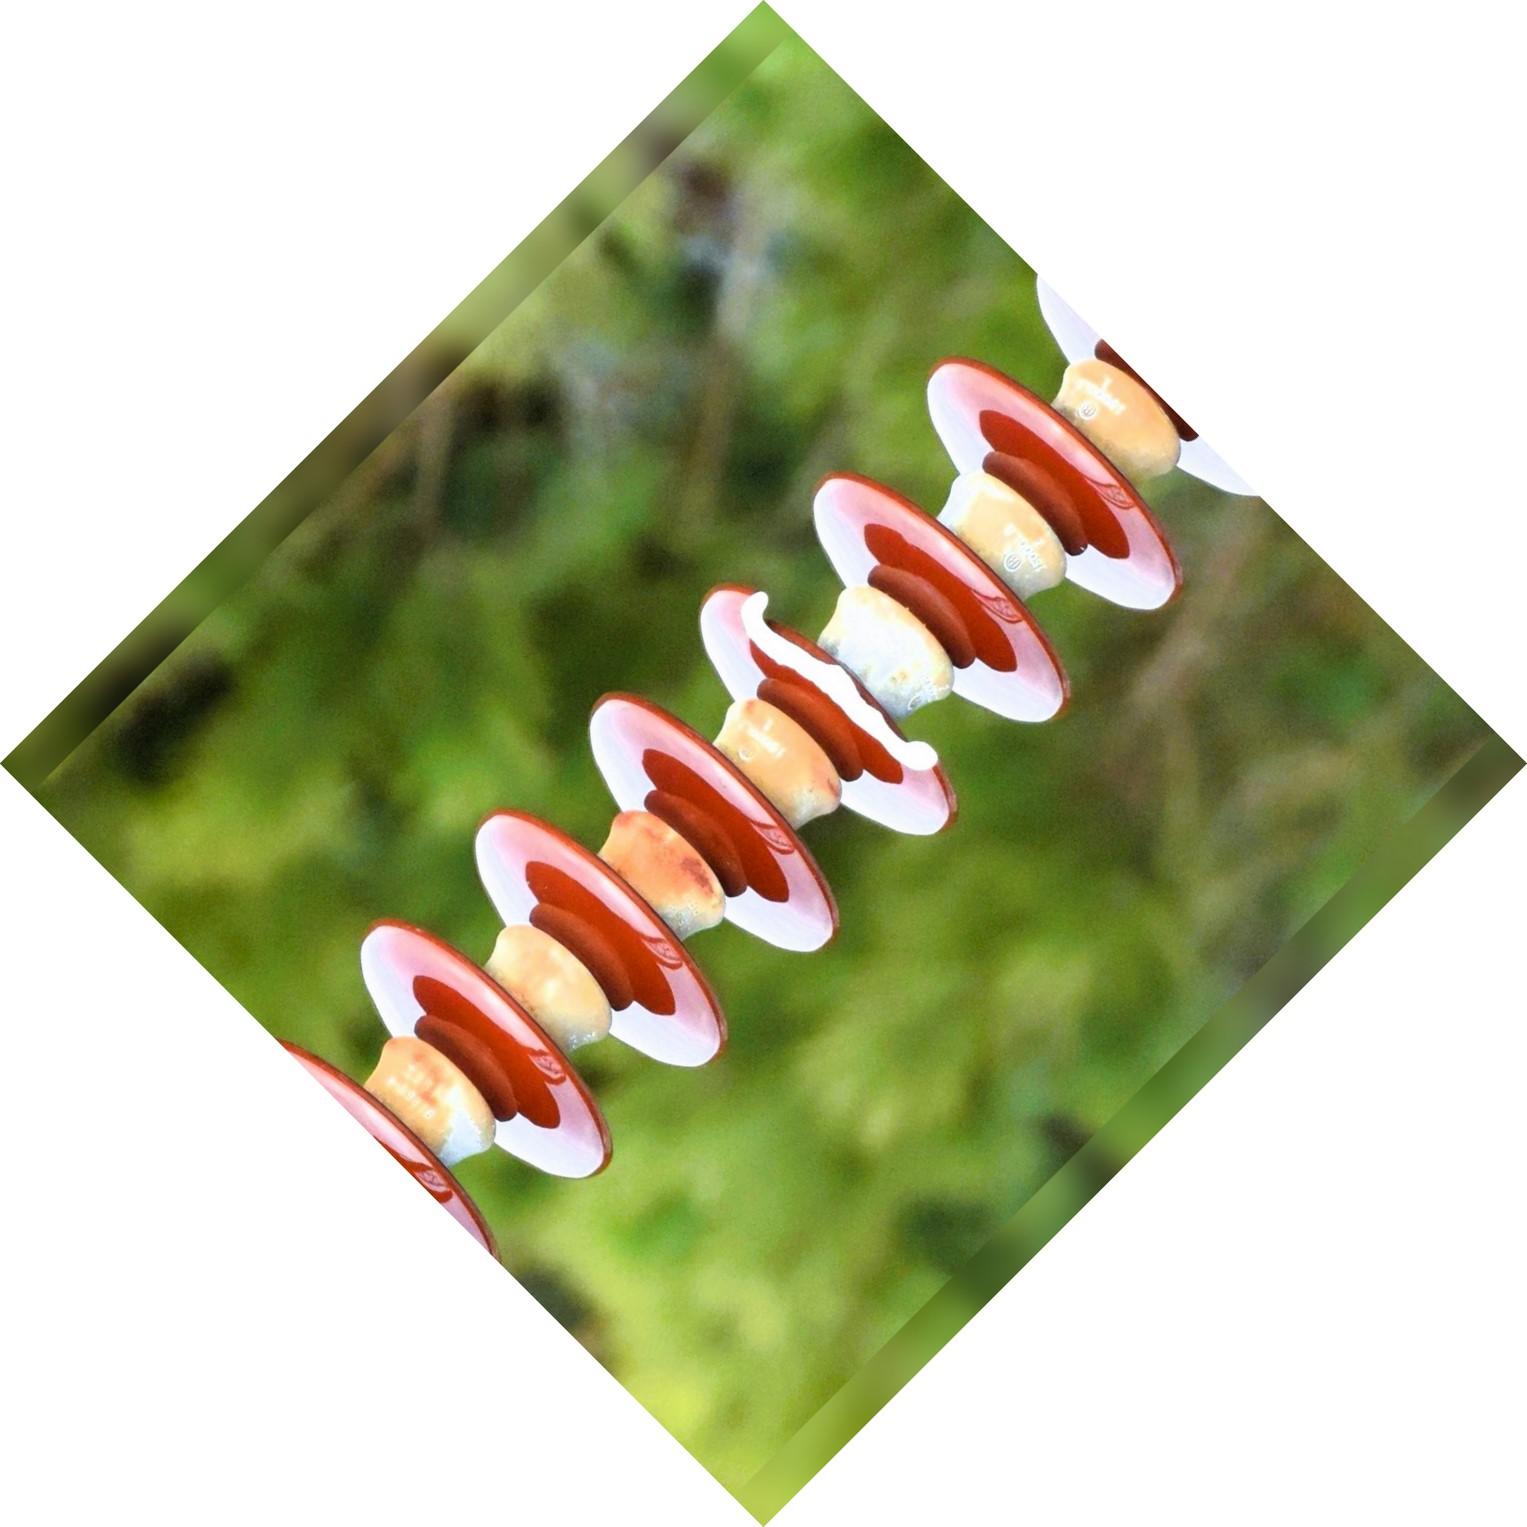insulator breakage: (680, 566, 968, 849)
